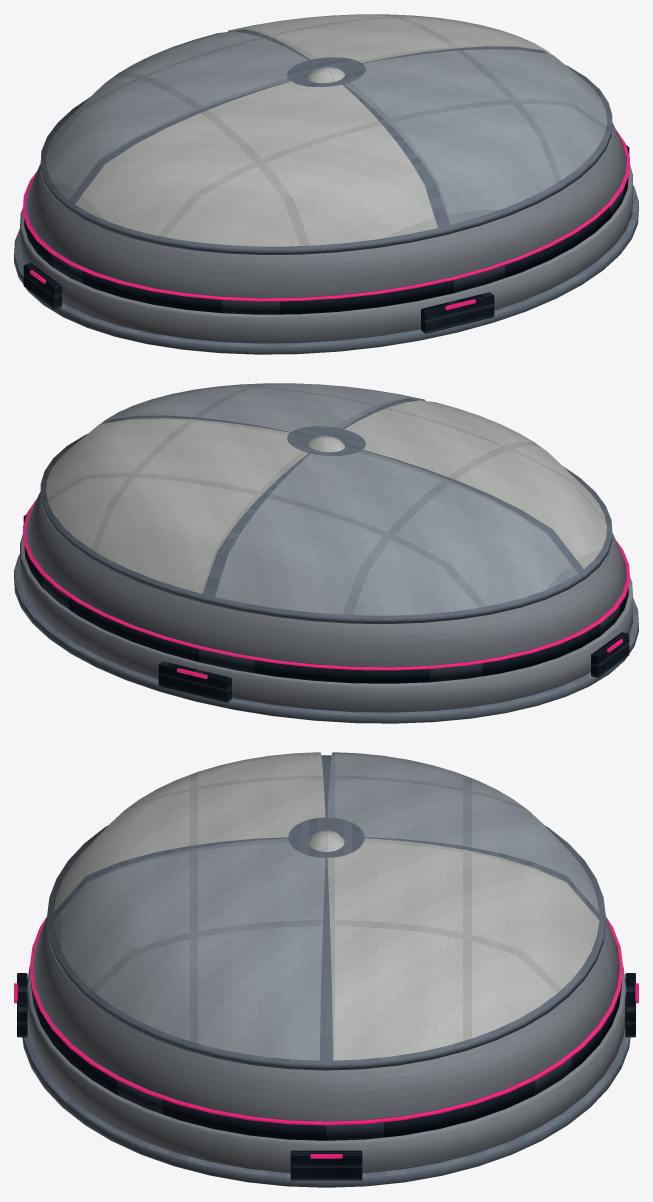
The model's file is rogers-centre.glb.
3 views of the same model, one above another, from view 1: azimuth 30°, elevation 25°; view 2: azimuth 150°, elevation 25°; view 3: azimuth 270°, elevation 25° (orthographic). The views are drawn at different scales.
Parts seen in each view (by area): view 1: RC_Retractable_Roof_Panel_3, RC_Retractable_Roof_Panel_4, RC_Upper_Concrete_Bowl, RC_Retractable_Roof_Panel_2, RC_Lower_Concrete_Bowl, RC_Retractable_Roof_Panel_1, RC_Concourse_Glass, RC_Foundation, RC_Roof_Base_Trim, RC_Roof_UnderShell, RC_Pink_Concourse_Line, RC_South_Glass_Entrance (+2 smaller); view 2: RC_Retractable_Roof_Panel_2, RC_Retractable_Roof_Panel_1, RC_Upper_Concrete_Bowl, RC_Retractable_Roof_Panel_3, RC_Lower_Concrete_Bowl, RC_Retractable_Roof_Panel_4, RC_Concourse_Glass, RC_Foundation, RC_Roof_Base_Trim, RC_Roof_UnderShell, RC_Pink_Concourse_Line, RC_North_Glass_Entrance (+2 smaller); view 3: RC_Retractable_Roof_Panel_1, RC_Retractable_Roof_Panel_4, RC_Upper_Concrete_Bowl, RC_Lower_Concrete_Bowl, RC_Retractable_Roof_Panel_2, RC_Retractable_Roof_Panel_3, RC_Concourse_Glass, RC_Foundation, RC_Roof_Base_Trim, RC_Roof_UnderShell, RC_Pink_Concourse_Line, RC_East_Glass_Entrance (+3 smaller).
Boxes of the visible parts, left/top/right/bottom form: RC_Retractable_Roof_Panel_3: left=75, top=81, right=437, bottom=246; RC_Retractable_Roof_Panel_4: left=344, top=49, right=606, bottom=224; RC_Upper_Concrete_Bowl: left=26, top=122, right=626, bottom=298; RC_Retractable_Roof_Panel_2: left=46, top=31, right=308, bottom=199; RC_Lower_Concrete_Bowl: left=20, top=165, right=632, bottom=343; RC_Retractable_Roof_Panel_1: left=227, top=14, right=551, bottom=62; RC_Concourse_Glass: left=24, top=177, right=628, bottom=314; RC_Foundation: left=14, top=185, right=638, bottom=354; RC_Roof_Base_Trim: left=40, top=65, right=612, bottom=254; RC_Roof_UnderShell: left=69, top=29, right=547, bottom=227; RC_Pink_Concourse_Line: left=23, top=130, right=629, bottom=301; RC_South_Glass_Entrance: left=421, top=292, right=494, bottom=333; RC_Retractable_Roof_Panel_2: left=215, top=450, right=577, bottom=615; RC_Retractable_Roof_Panel_1: left=46, top=418, right=308, bottom=593; RC_Upper_Concrete_Bowl: left=26, top=491, right=626, bottom=667; RC_Retractable_Roof_Panel_3: left=344, top=400, right=606, bottom=568; RC_Lower_Concrete_Bowl: left=20, top=534, right=632, bottom=712; RC_Retractable_Roof_Panel_4: left=101, top=383, right=425, bottom=431; RC_Concourse_Glass: left=24, top=546, right=628, bottom=683; RC_Foundation: left=14, top=554, right=638, bottom=723; RC_Roof_Base_Trim: left=40, top=434, right=612, bottom=623; RC_Roof_UnderShell: left=105, top=398, right=583, bottom=596; RC_Pink_Concourse_Line: left=23, top=499, right=629, bottom=670; RC_North_Glass_Entrance: left=158, top=661, right=231, bottom=702; RC_Retractable_Roof_Panel_1: left=327, top=838, right=599, bottom=1060; RC_Retractable_Roof_Panel_4: left=53, top=838, right=325, bottom=1060; RC_Upper_Concrete_Bowl: left=33, top=917, right=619, bottom=1121; RC_Lower_Concrete_Bowl: left=26, top=966, right=626, bottom=1173; RC_Retractable_Roof_Panel_2: left=327, top=752, right=599, bottom=912; RC_Retractable_Roof_Panel_3: left=53, top=752, right=325, bottom=912; RC_Concourse_Glass: left=31, top=982, right=621, bottom=1140; RC_Foundation: left=22, top=1025, right=630, bottom=1187; RC_Roof_Base_Trim: left=47, top=825, right=605, bottom=1070; RC_Roof_UnderShell: left=54, top=755, right=598, bottom=1060; RC_Pink_Concourse_Line: left=29, top=917, right=623, bottom=1125; RC_East_Glass_Entrance: left=290, top=1150, right=362, bottom=1180.
Bounding box in the file's own units: 217 × 60 × 175.
Materials: 6 (6 with a texture image).
